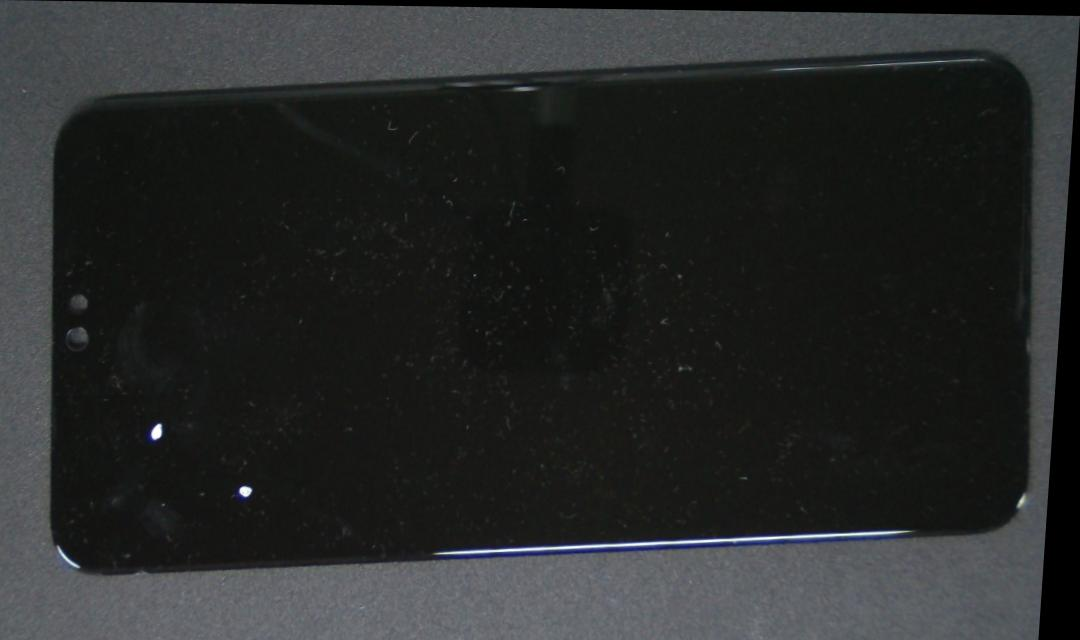Dislodged Screen: (218, 465, 273, 526), (140, 415, 171, 455)
